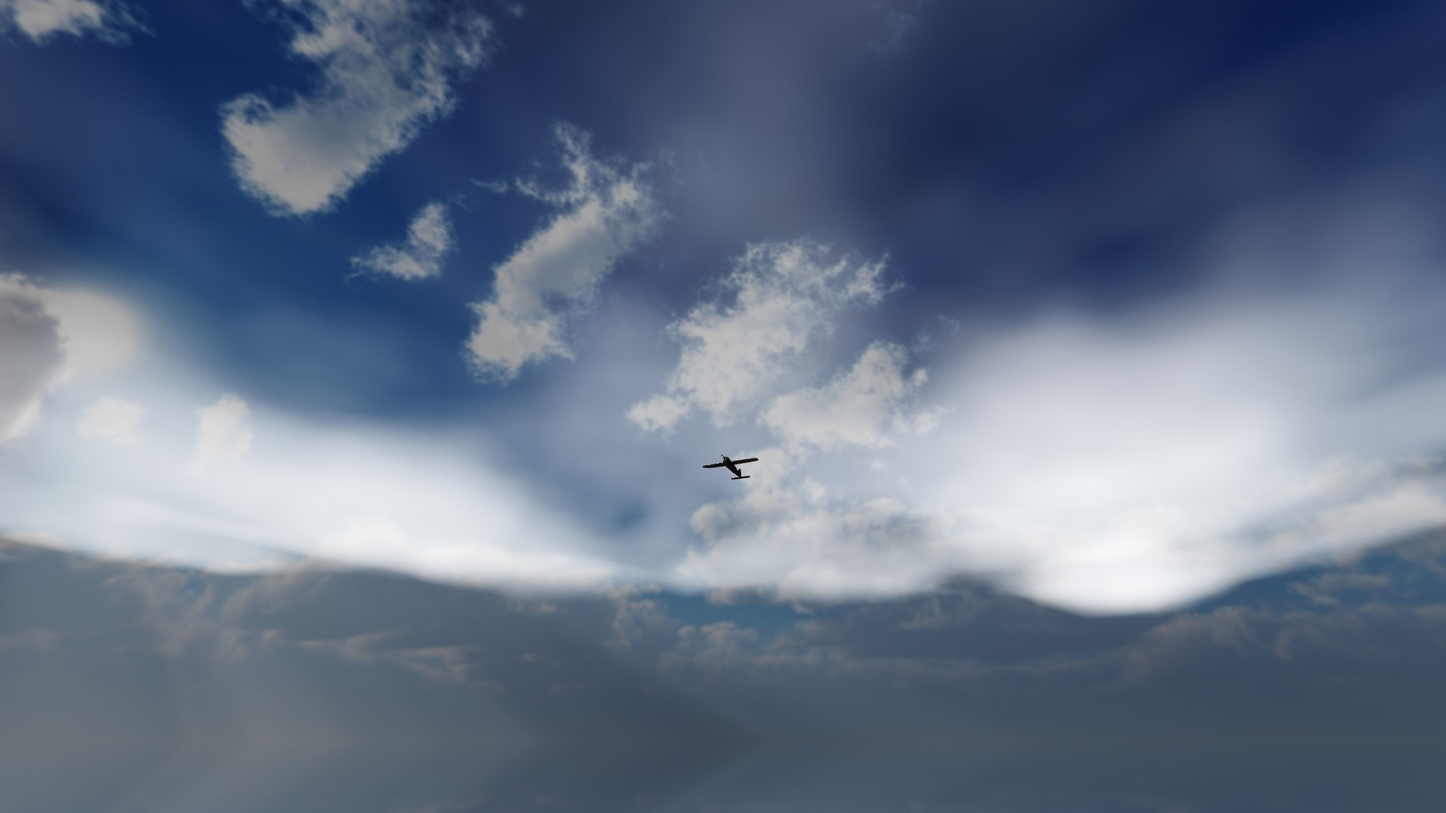drone_other: (702, 454, 758, 480)
